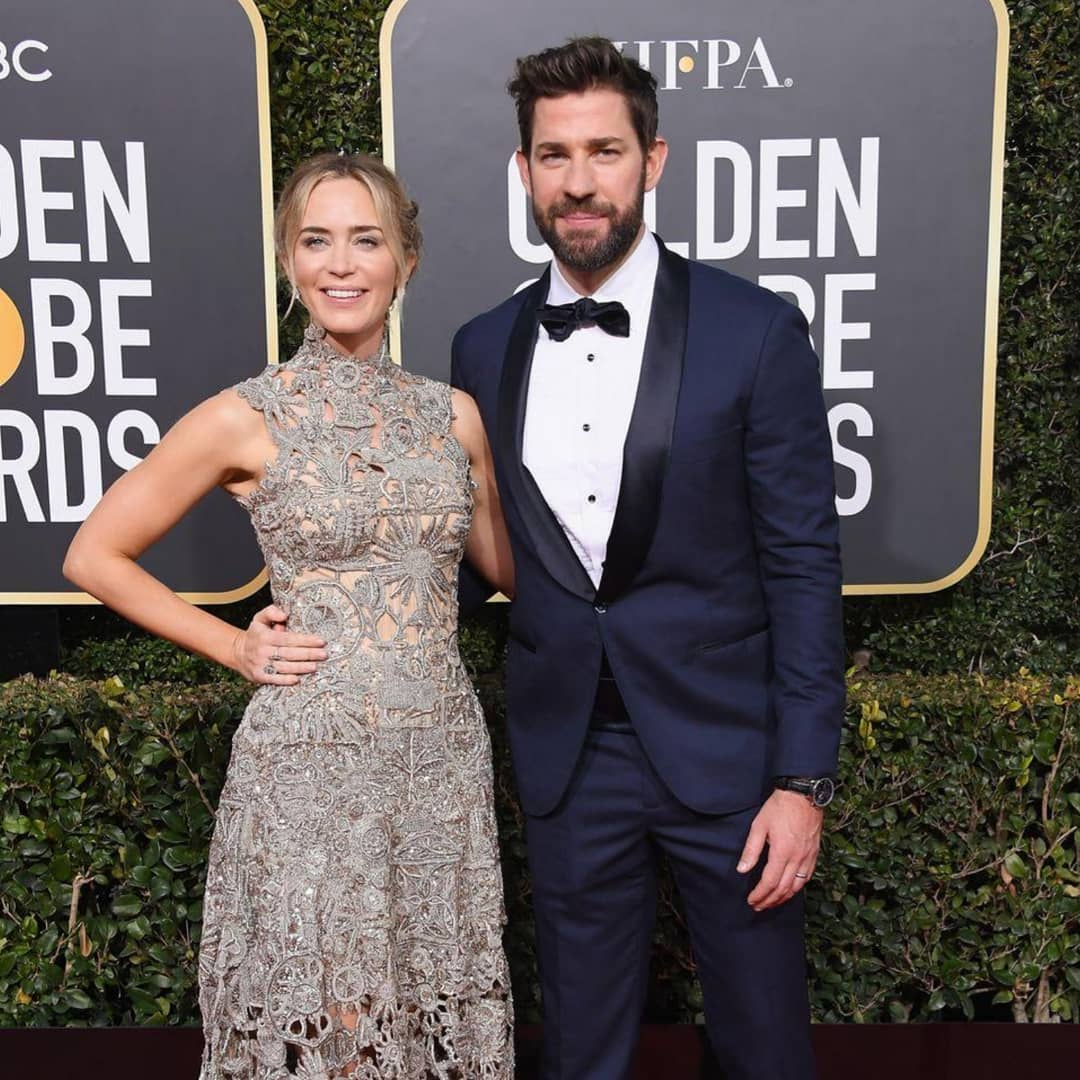hand: (224, 611, 325, 676)
